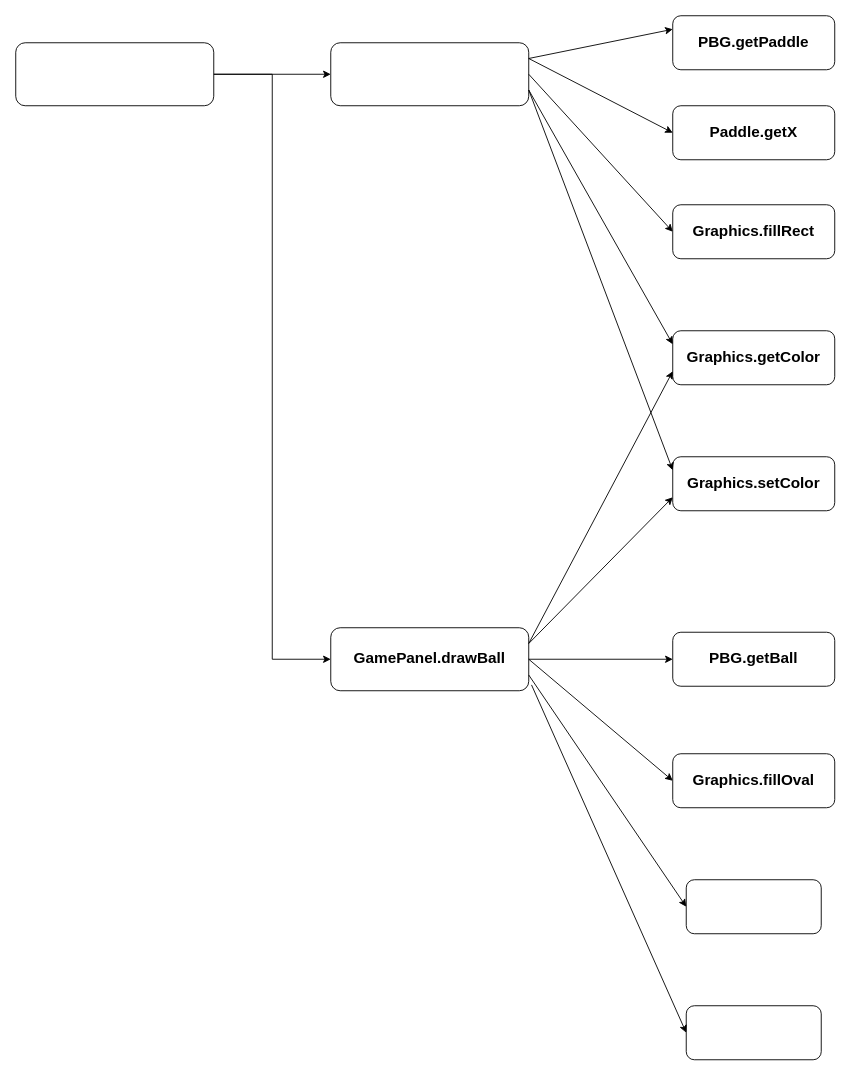
This 851x1083 diagram has some shape labels left out. Each missing label, with the centre of its shape:
Ball.getX: point (753, 906)
Ball.getY: point (753, 1032)
GamePanel.drawGame: point (114, 74)
GamePanel.drawPaddle: point (429, 74)
